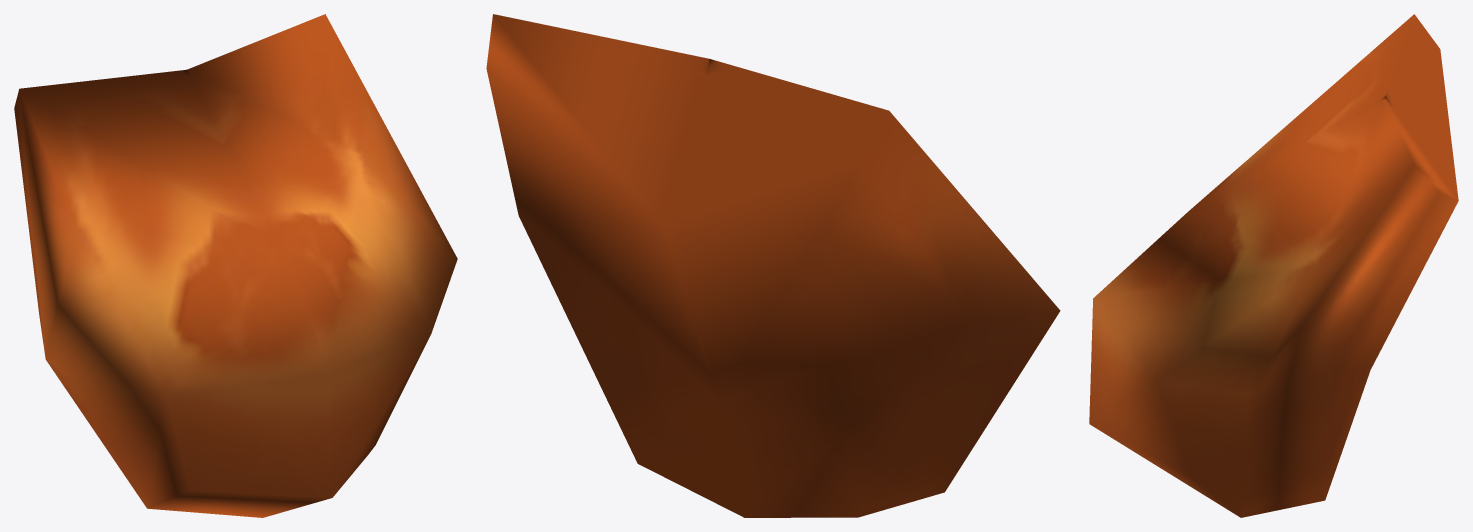
Rendered from hair_beard_mesh.fbx.
3 views of the same model, side by side, from view 1: azimuth 30°, elevation 25°; view 2: azimuth 150°, elevation 25°; view 3: azimuth 270°, elevation 25° (orthographic). The views are drawn at different scales.
Visible parts, largest first — view 1: hair_beard_mesh; view 2: hair_beard_mesh; view 3: hair_beard_mesh.
Part boxes in pixels (<box>): hair_beard_mesh: <box>14,14,457,517</box>; hair_beard_mesh: <box>486,14,1060,517</box>; hair_beard_mesh: <box>1089,14,1458,517</box>.
Size of the model in its own units: 19.37 by 17.99 by 14.82.
